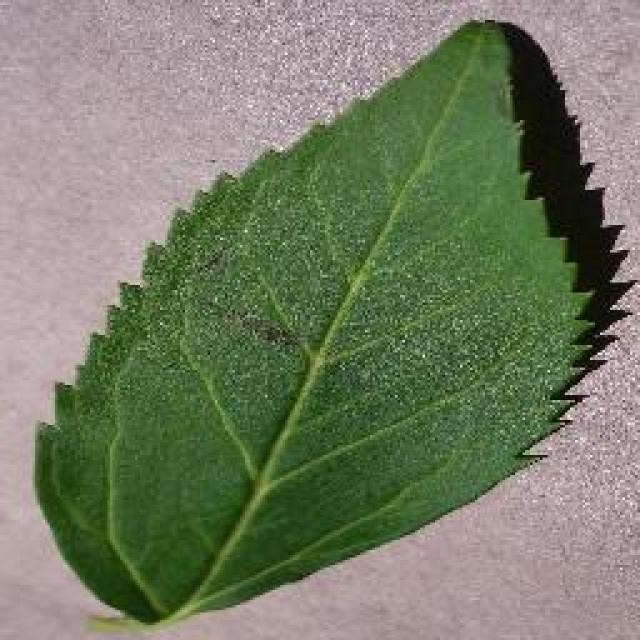Cherry___healthy: (18, 10, 618, 640)
